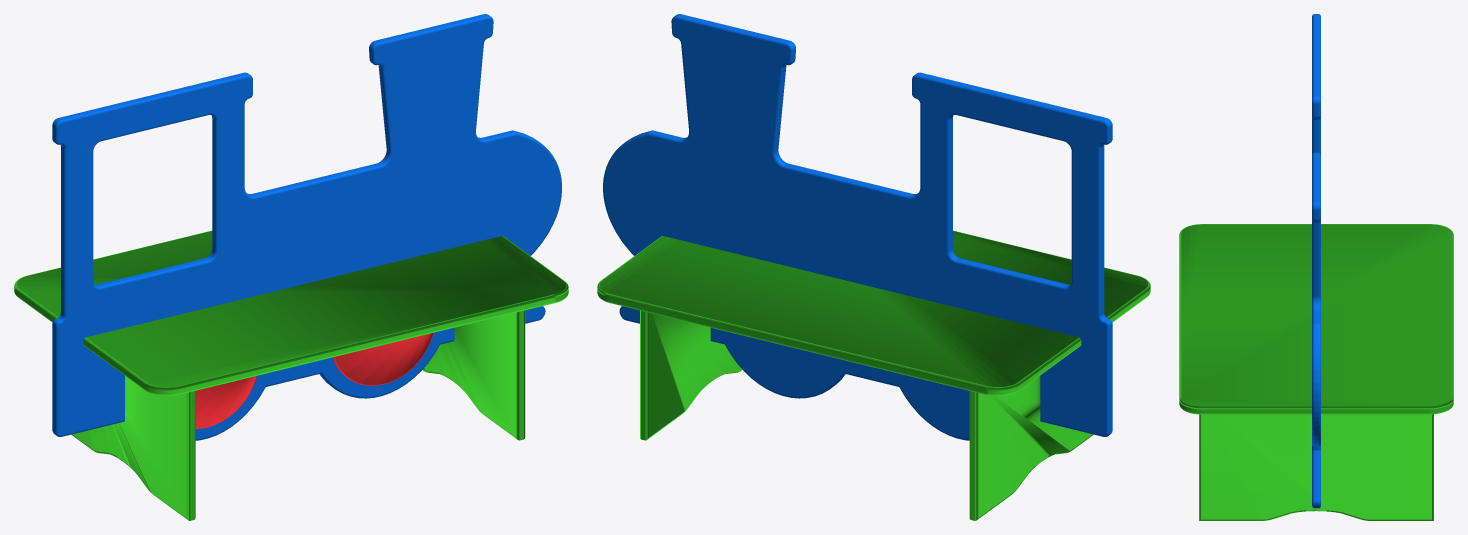
3 views of the same model, side by side, from view 1: azimuth 30°, elevation 25°; view 2: azimuth 150°, elevation 25°; view 3: azimuth 270°, elevation 25° (orthographic). The views are drawn at different scales.
Parts seen in each view (by area): view 1: D_50; view 2: D_50; view 3: D_50.
Boxes of the visible parts, box(x1,y1,x2,y2) form: D_50: box(14, 14, 568, 520); D_50: box(597, 14, 1150, 520); D_50: box(1179, 14, 1453, 520).
Size of the model in its own units: 120 by 84.03 by 63.
